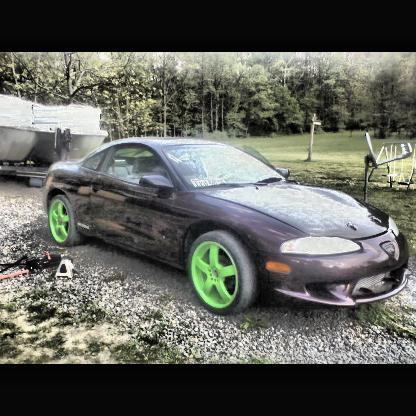Eagle Talon Hatchback 1998: (43, 135, 413, 319)
